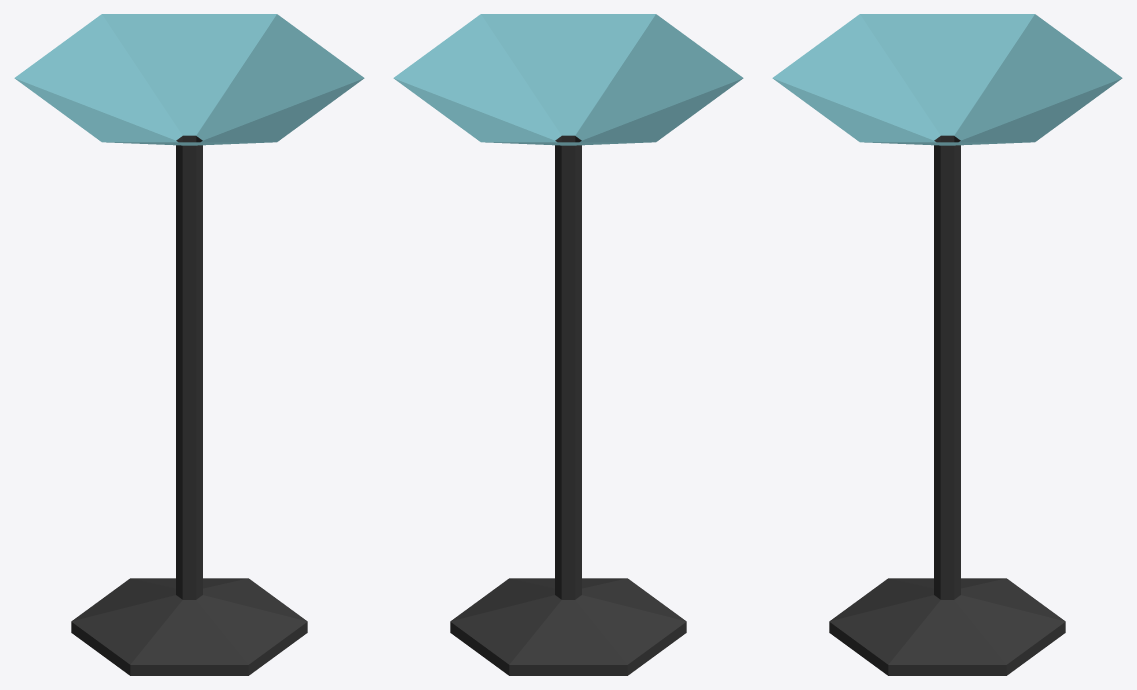
The model's file is Light01.fbx.
3 views of the same model, side by side, from view 1: azimuth 30°, elevation 25°; view 2: azimuth 150°, elevation 25°; view 3: azimuth 270°, elevation 25° (orthographic).
Visible parts, largest first — view 1: Cylinder; view 2: Cylinder; view 3: Cylinder.
Part boxes in pixels (x1,y1,x2,y2): Cylinder: [14, 14, 364, 675]; Cylinder: [393, 14, 743, 675]; Cylinder: [772, 14, 1122, 675].
Size of the model in its own units: 200 by 402 by 230.
